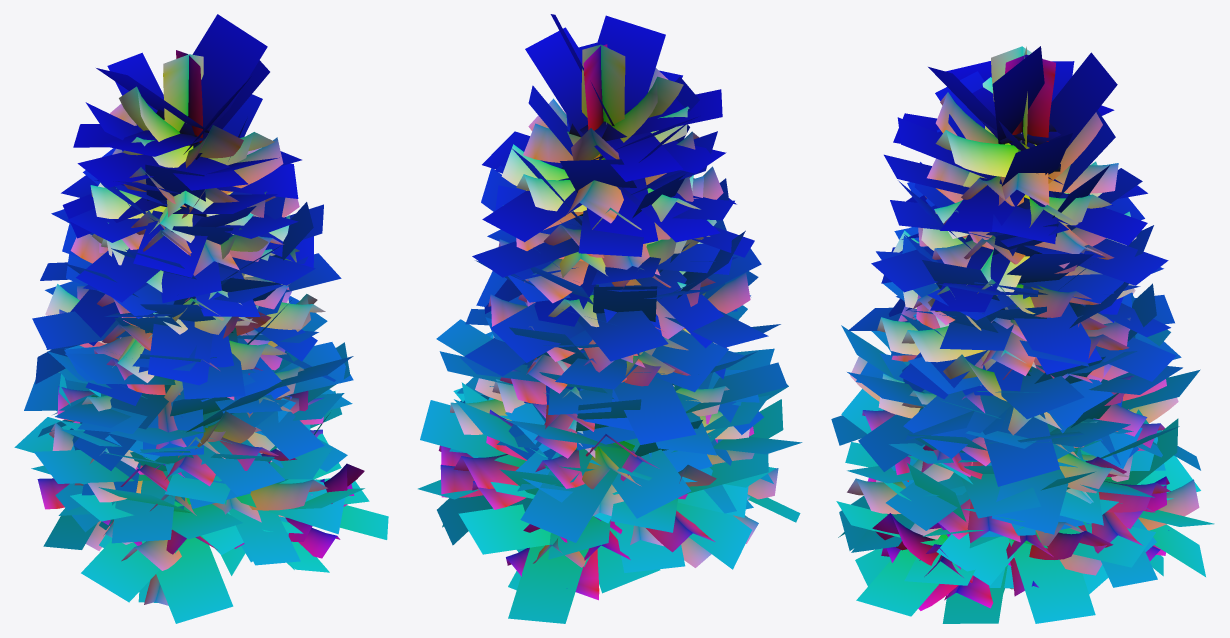
The model's file is spruce_03_2.fbx.
3 renders of one model, left to right at view 1: azimuth 30°, elevation 25°; view 2: azimuth 150°, elevation 25°; view 3: azimuth 270°, elevation 25°, orthographic. The views are drawn at different scales.
Parts seen in each view (by area): view 1: spruce_03_2_leaves_shadow, spruce_03_2_leaves_lod_0; view 2: spruce_03_2_leaves_shadow, spruce_03_2_leaves_lod_0; view 3: spruce_03_2_leaves_shadow, spruce_03_2_leaves_lod_0.
Part boxes in pixels (box(x1,y1,x2,y2)): spruce_03_2_leaves_shadow: box(14, 14, 388, 623); spruce_03_2_leaves_lod_0: box(37, 50, 364, 605); spruce_03_2_leaves_shadow: box(418, 14, 802, 623); spruce_03_2_leaves_lod_0: box(438, 44, 778, 600); spruce_03_2_leaves_shadow: box(831, 46, 1214, 623); spruce_03_2_leaves_lod_0: box(847, 46, 1199, 610).
Size of what is drawn, in the model's own units: 8.5 by 13.94 by 8.64.
